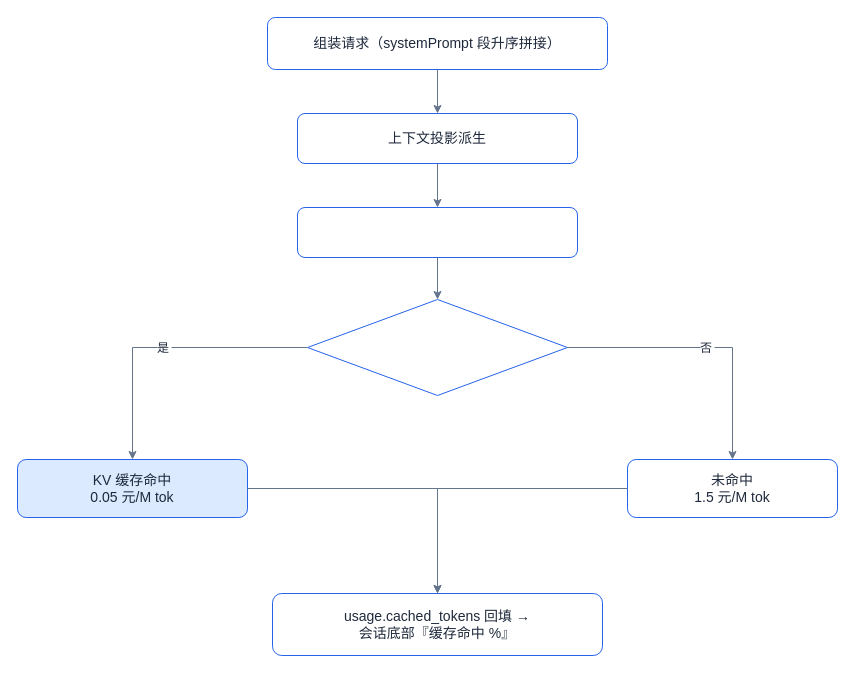
This 855x673 diagram has some shape labels left out. The centre of each missing label's shape, as x and y in pixels:
"前缀与上次 逐字节一致？" goes at point 437,347.
"请求体 deepFreeze 冻结" goes at point 437,232.
